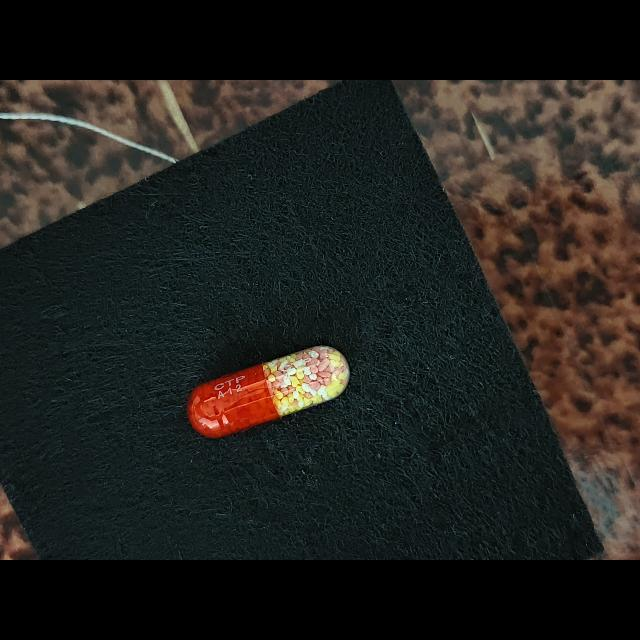Intact Capsule: (188, 345, 350, 438)
